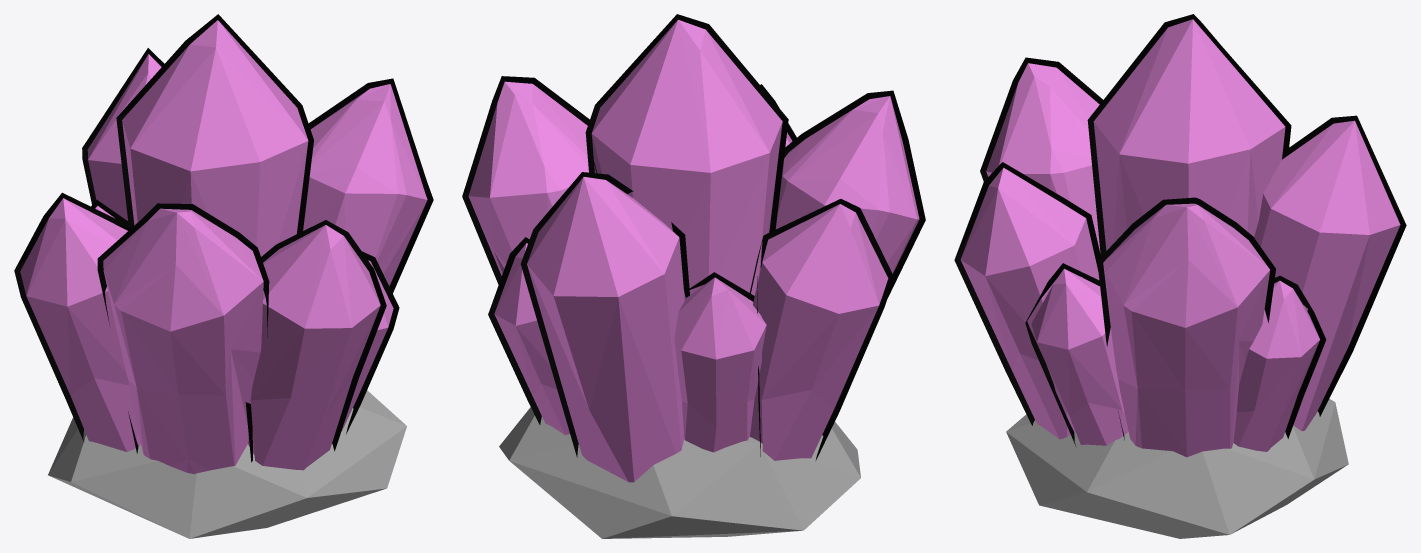
Rendered from Crystal5.glb.
3 views of the same model, side by side, from view 1: azimuth 30°, elevation 25°; view 2: azimuth 150°, elevation 25°; view 3: azimuth 270°, elevation 25° (orthographic). The views are drawn at different scales.
Visible parts, largest first — view 1: Circle.005, Icosphere.015, Circle.004; view 2: Circle.005, Icosphere.015, Circle.004; view 3: Circle.005, Icosphere.015, Circle.004.
Boxes of the visible parts, x1,y1,x2,y2 form: Circle.005: (20,20,427,474); Icosphere.015: (48,390,406,538); Circle.004: (14,14,433,462); Circle.005: (468,19,919,482); Icosphere.015: (499,407,860,538); Circle.004: (462,14,925,460); Circle.005: (960,19,1400,457); Icosphere.015: (1006,399,1348,538); Circle.004: (954,14,1406,446).
Bounding box in the file's own units: 0.1833 × 0.2088 × 0.1797.
